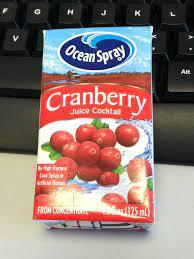cardboard: (33, 26, 153, 226)
